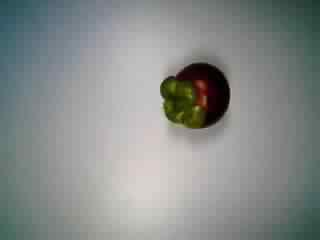mangosteen: (156, 59, 230, 131)
